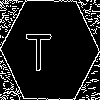T: (25, 25, 53, 71)
